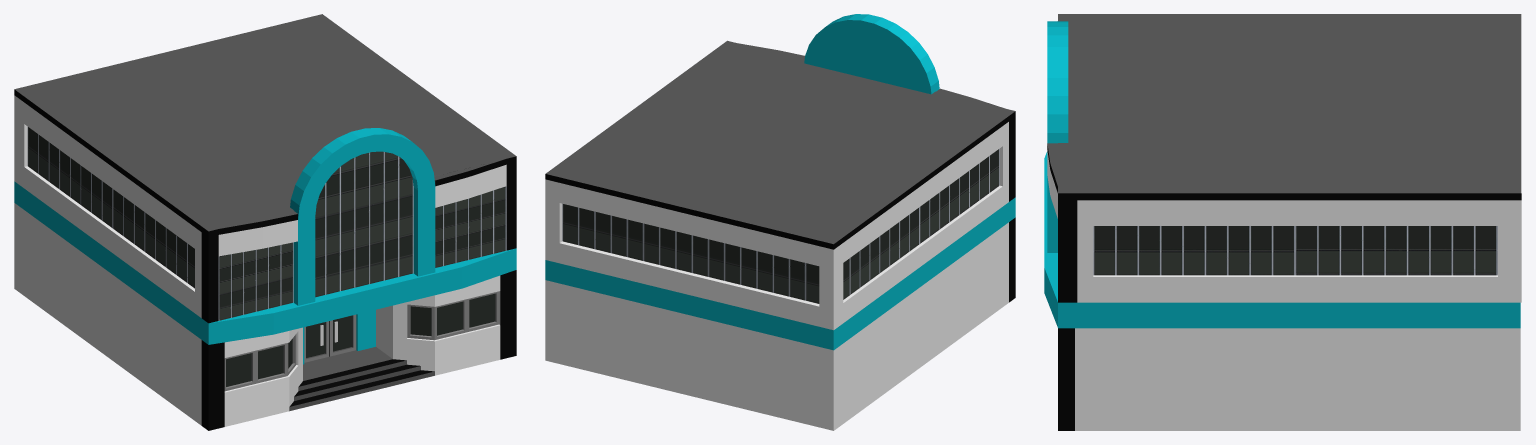
3 views of the same model, side by side, from view 1: azimuth 30°, elevation 25°; view 2: azimuth 150°, elevation 25°; view 3: azimuth 270°, elevation 25° (orthographic). The views are drawn at different scales.
Parts seen in each view (by area): view 1: BB-035; view 2: BB-035; view 3: BB-035.
Boxes of the visible parts, x1,y1,x2,y2 form: BB-035: [14, 14, 516, 430]; BB-035: [545, 14, 1015, 430]; BB-035: [1044, 14, 1521, 430].
Size of what is drawn, in the model's own units: 14.99 by 12.1 by 16.86.
